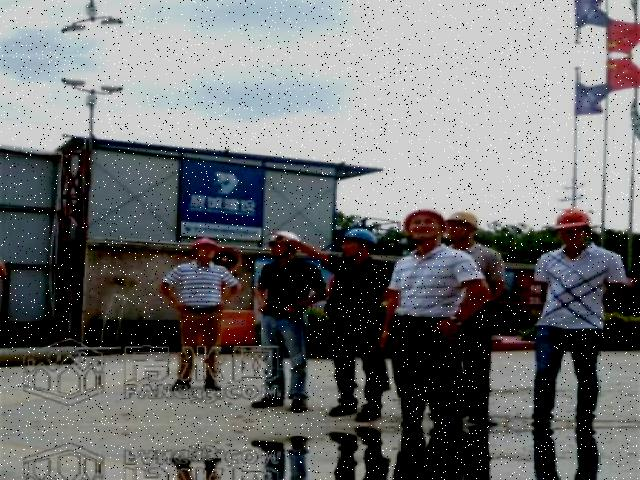Helmet: (395, 204, 445, 241), (546, 204, 594, 236), (334, 222, 378, 248), (442, 209, 486, 230), (184, 235, 220, 254)
